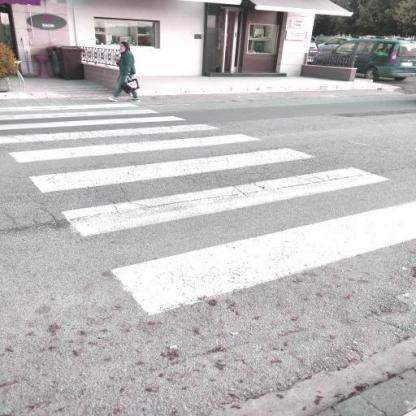crosswalk: (26, 143, 395, 244), (0, 107, 192, 133)
